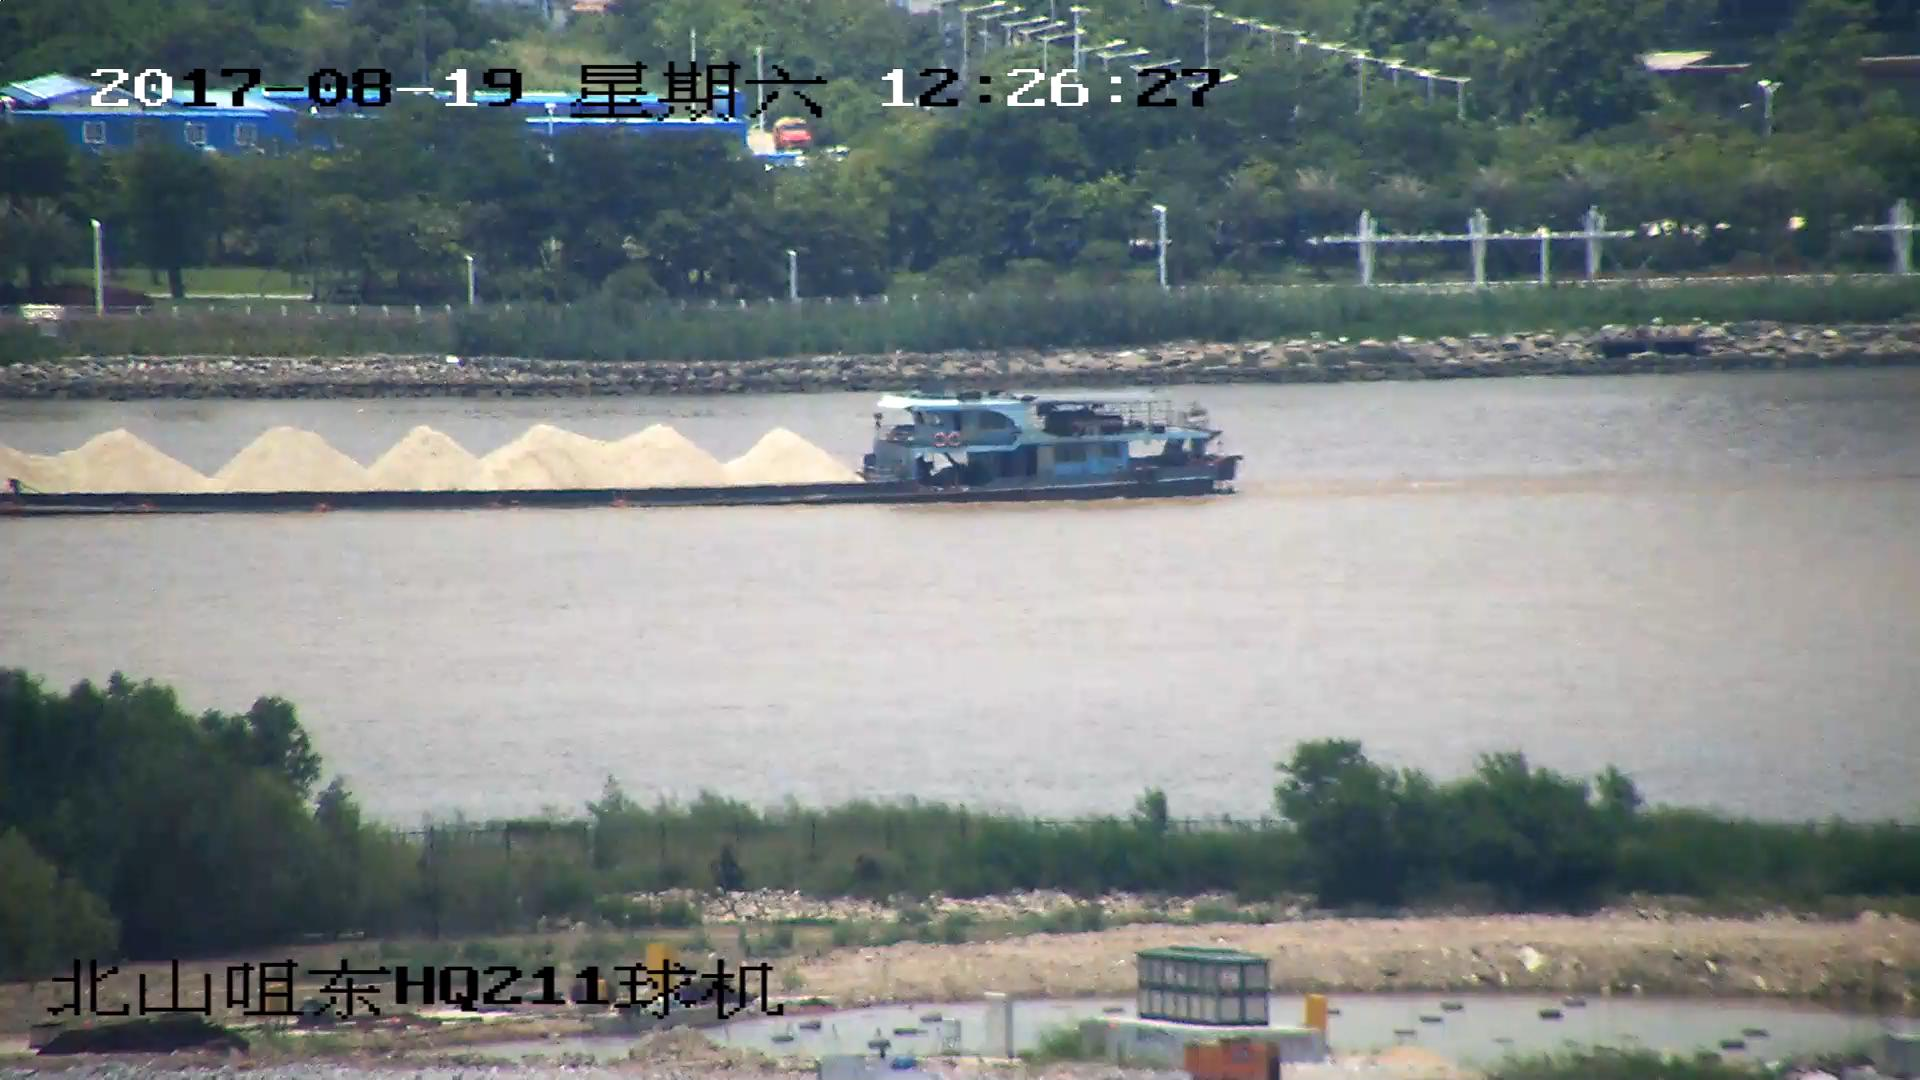ore carrier: (1, 381, 1242, 512)
